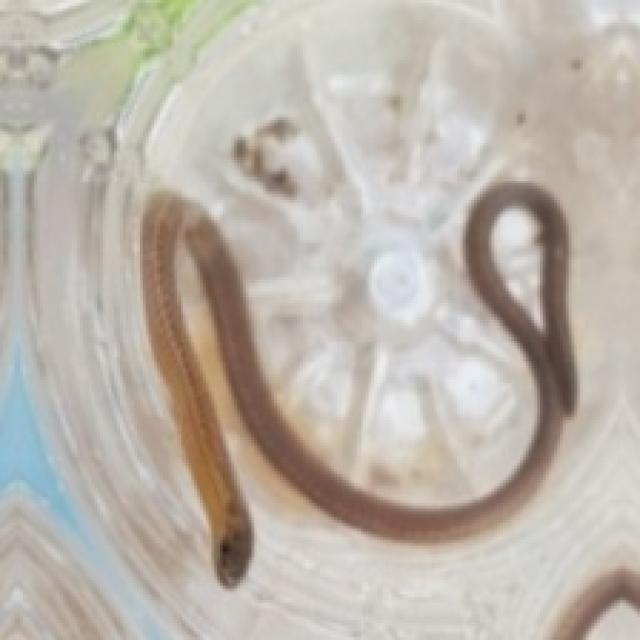gervais worm snake: (143, 183, 574, 583)
